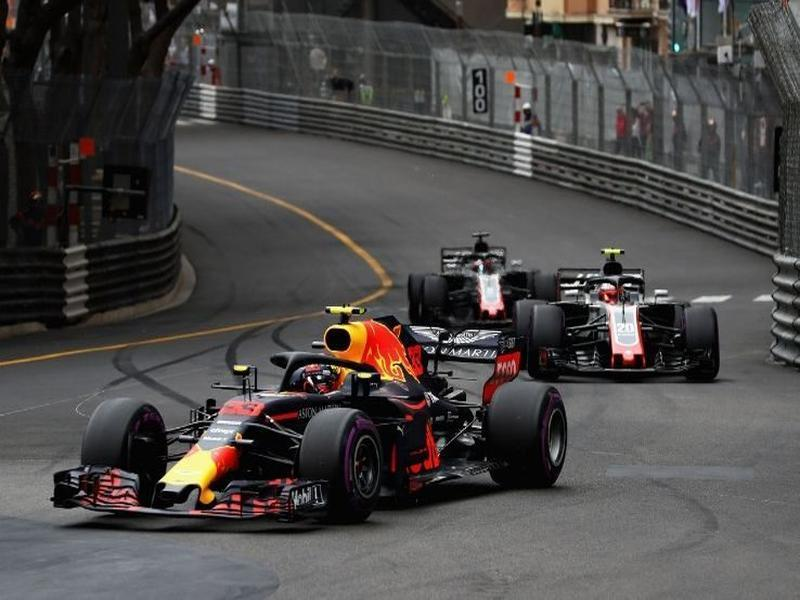f1: (72, 305, 596, 525), (519, 268, 744, 381), (397, 224, 565, 325)
